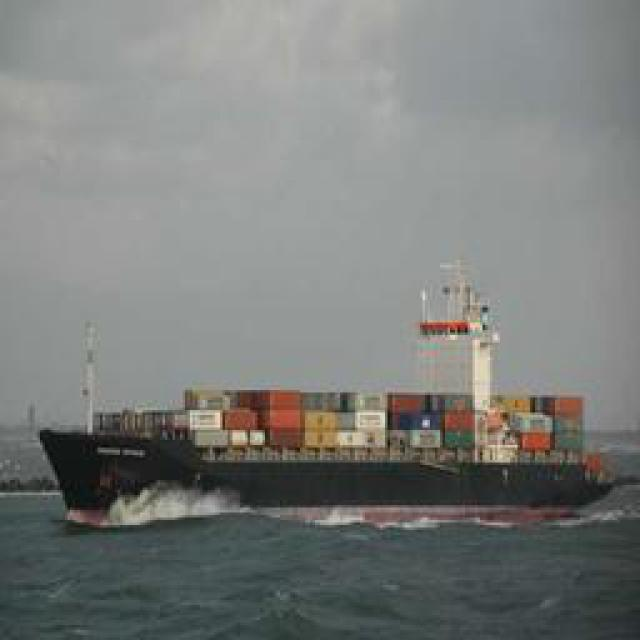Ship: (46, 403, 624, 518)
